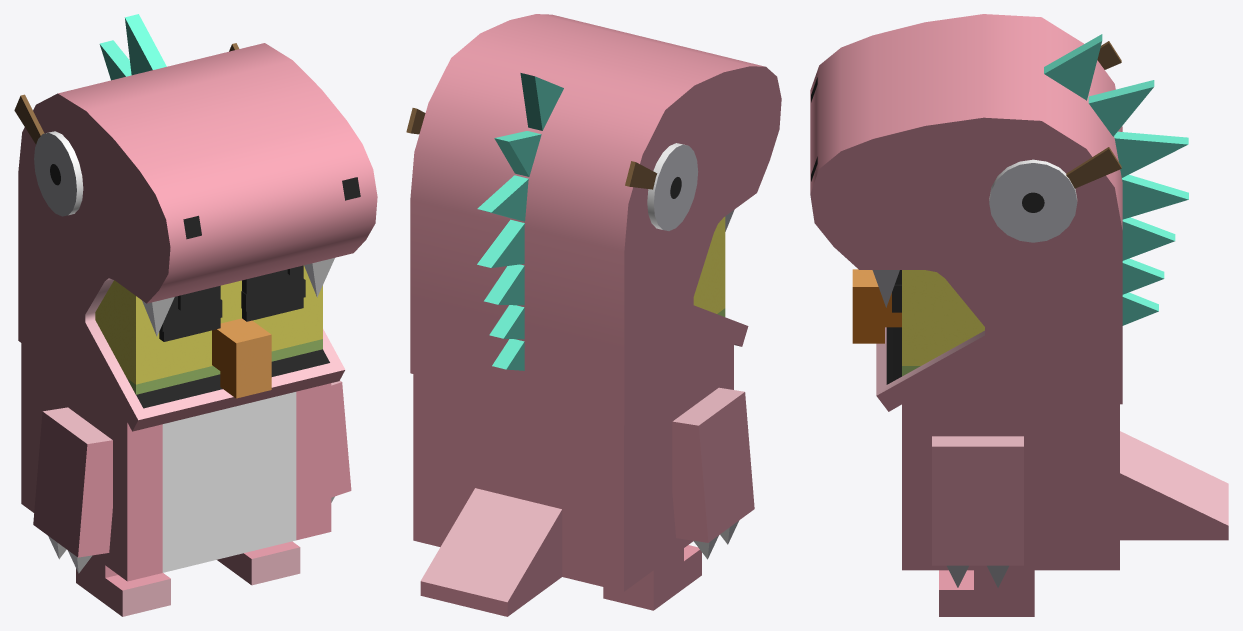
The picture shows the model from 3 angles, left to right: view 1: azimuth 30°, elevation 25°; view 2: azimuth 150°, elevation 25°; view 3: azimuth 270°, elevation 25°; orthographic projection. The views are drawn at different scales.
Parts seen in each view (by area): view 1: Ch_236_Head, Ch_236, Ch_236_Arm_L, Ch_236_Leg_L, Ch_236_Leg_R, Ch_236_Eye_02, Ch_236_Arm_R, Ch_236_Eye_03_R, Ch_236_Eye_03_L, Ch_236_Eye_01; view 2: Ch_236_Head, Ch_236, Ch_236_Arm_L, Ch_236_Leg_L; view 3: Ch_236_Head, Ch_236, Ch_236_Arm_R, Ch_236_Leg_R.
Part boxes in pixels (left/top/right/bottom): Ch_236_Head: left=14, top=14, right=377, bottom=431; Ch_236: left=21, top=343, right=331, bottom=581; Ch_236_Arm_L: left=33, top=407, right=112, bottom=573; Ch_236_Leg_L: left=76, top=556, right=170, bottom=616; Ch_236_Leg_R: left=217, top=541, right=300, bottom=585; Ch_236_Eye_02: left=160, top=279, right=305, bottom=331; Ch_236_Arm_R: left=331, top=380, right=351, bottom=502; Ch_236_Eye_03_R: left=242, top=265, right=303, bottom=321; Ch_236_Eye_03_L: left=159, top=285, right=220, bottom=341; Ch_236_Eye_01: left=178, top=269, right=287, bottom=326; Ch_236_Head: left=406, top=14, right=781, bottom=425; Ch_236: left=413, top=345, right=733, bottom=616; Ch_236_Arm_L: left=672, top=387, right=754, bottom=559; Ch_236_Leg_L: left=603, top=545, right=701, bottom=610; Ch_236_Head: left=810, top=14, right=1188, bottom=411; Ch_236: left=902, top=404, right=1228, bottom=570; Ch_236_Arm_R: left=932, top=436, right=1023, bottom=587; Ch_236_Leg_R: left=939, top=570, right=1034, bottom=616.
Bounding box in the file's own units: 8.05 × 14.67 × 10.4.
